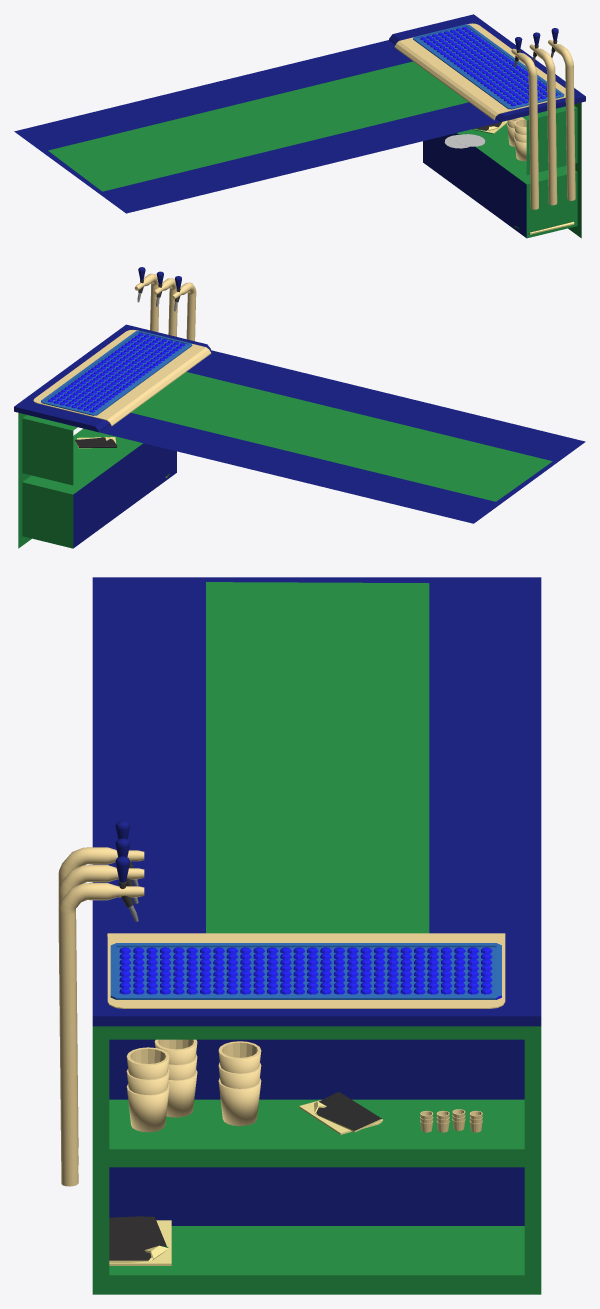
The model's file is Table_blue.FBX.
3 renders of one model, top to bottom at view 1: azimuth 30°, elevation 25°; view 2: azimuth 150°, elevation 25°; view 3: azimuth 270°, elevation 25°, orthographic. The views are drawn at different scales.
Visible parts, largest first — view 1: stol, bigpodstavka, skatert, kran.000, kran.002, kran.001, Cylinder.001, Podstavkapodkrygky.002; view 2: stol, bigpodstavka, skatert, kran.001, kran.002, kran.000, tryapka; view 3: stol, bigpodstavka, skatert, kran.002, Cylinder.002, stakan, Plane.001, Cylinder.001, tryapka, kran.000, kran.001.
Boxes of the visible parts, left/top/right/bottom form: stol: left=14, top=14, right=585, bottom=238; bigpodstavka: left=413, top=24, right=564, bottom=109; skatert: left=394, top=23, right=565, bottom=120; kran.000: left=529, top=32, right=557, bottom=205; kran.002: left=548, top=28, right=575, bottom=200; kran.001: left=511, top=37, right=538, bottom=209; Cylinder.001: left=514, top=118, right=526, bottom=161; Podstavkapodkrygky.002: left=455, top=134, right=485, bottom=146; stol: left=14, top=324, right=585, bottom=548; bigpodstavka: left=41, top=330, right=192, bottom=415; skatert: left=33, top=330, right=211, bottom=426; kran.001: left=171, top=276, right=196, bottom=341; kran.002: left=134, top=267, right=159, bottom=332; kran.000: left=153, top=271, right=177, bottom=336; tryapka: left=74, top=437, right=117, bottom=448; stol: left=92, top=577, right=541, bottom=1294; bigpodstavka: left=110, top=943, right=501, bottom=999; skatert: left=107, top=933, right=505, bottom=1008; kran.002: left=58, top=856, right=144, bottom=1186; Cylinder.002: left=218, top=1041, right=261, bottom=1126; stakan: left=126, top=1047, right=169, bottom=1132; Plane.001: left=109, top=1216, right=171, bottom=1265; Cylinder.001: left=154, top=1039, right=197, bottom=1117; tryapka: left=299, top=1092, right=382, bottom=1134; kran.000: left=58, top=838, right=144, bottom=1164; kran.001: left=58, top=820, right=144, bottom=1147.
Size of the model in its own units: 7065 by 3074 by 3214.
